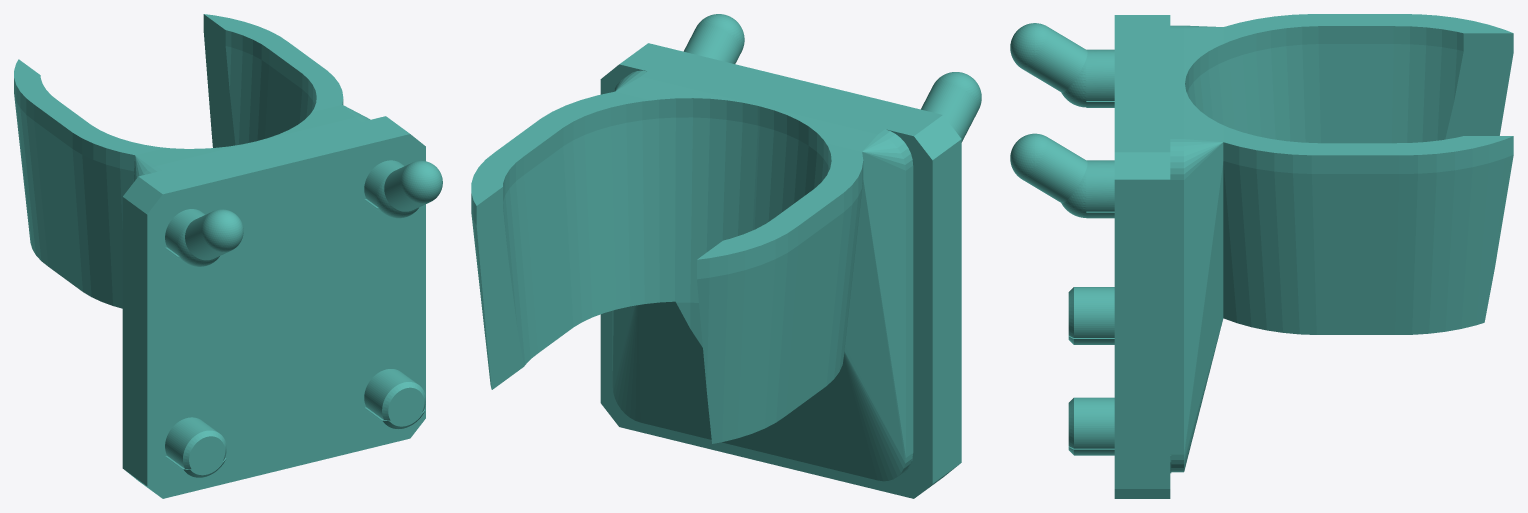
3 views of the same model, side by side, from view 1: azimuth 30°, elevation 25°; view 2: azimuth 150°, elevation 25°; view 3: azimuth 270°, elevation 25° (orthographic). The views are drawn at different scales.
Parts seen in each view (by area): view 1: Actual holder mesh; view 2: Actual holder mesh; view 3: Actual holder mesh.
Part boxes in pixels (left/top/right/bottom): Actual holder mesh: left=14, top=14, right=442, bottom=498; Actual holder mesh: left=471, top=14, right=981, bottom=498; Actual holder mesh: left=1010, top=14, right=1513, bottom=498.
Bounding box in the file's own units: 0.0356 × 0.0374 × 0.0489.
